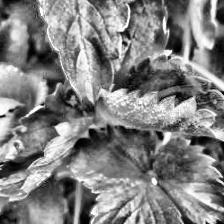Powdery Mildew Leaf: (94, 52, 224, 144), (0, 78, 96, 201), (87, 178, 187, 224), (136, 0, 224, 51)
